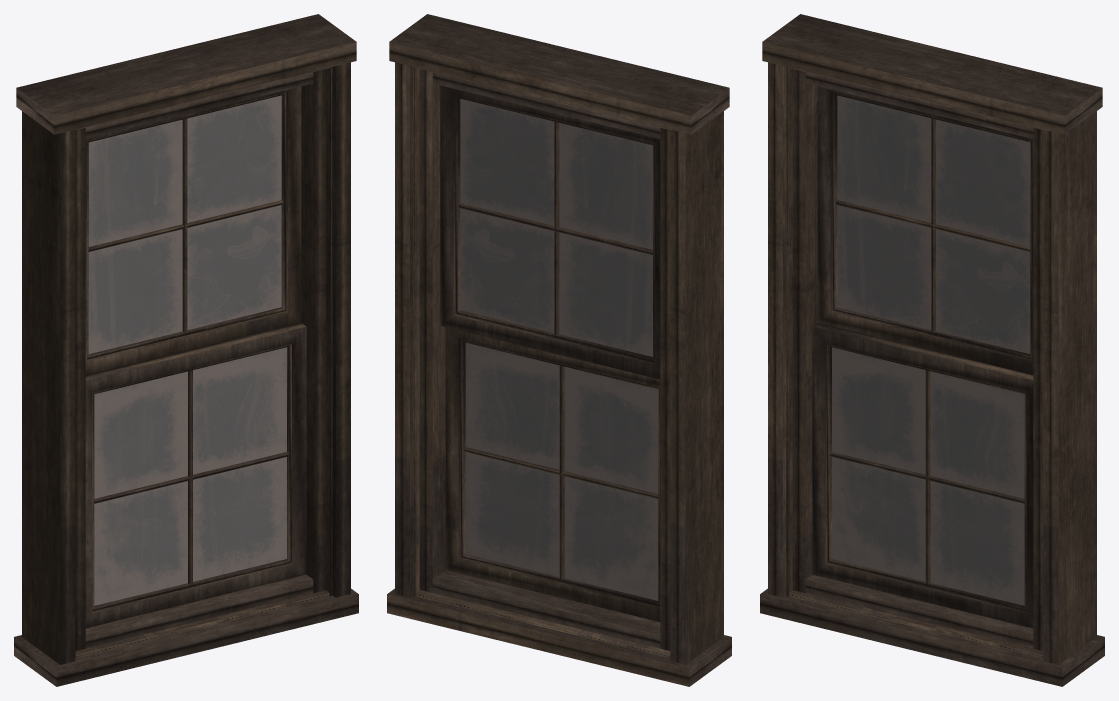
Rendered from window.fbx.
The picture shows the model from 3 angles, left to right: view 1: azimuth 30°, elevation 25°; view 2: azimuth 150°, elevation 25°; view 3: azimuth 330°, elevation 25°; orthographic projection.
Parts seen in each view (by area): view 1: window; view 2: window; view 3: window.
Boxes of the visible parts, box(x1,y1,x2,y2) form: window: box(14, 14, 358, 686); window: box(387, 14, 731, 686); window: box(760, 14, 1104, 686).
Bounding box in the file's own units: 60.67 × 109 × 14.76.
